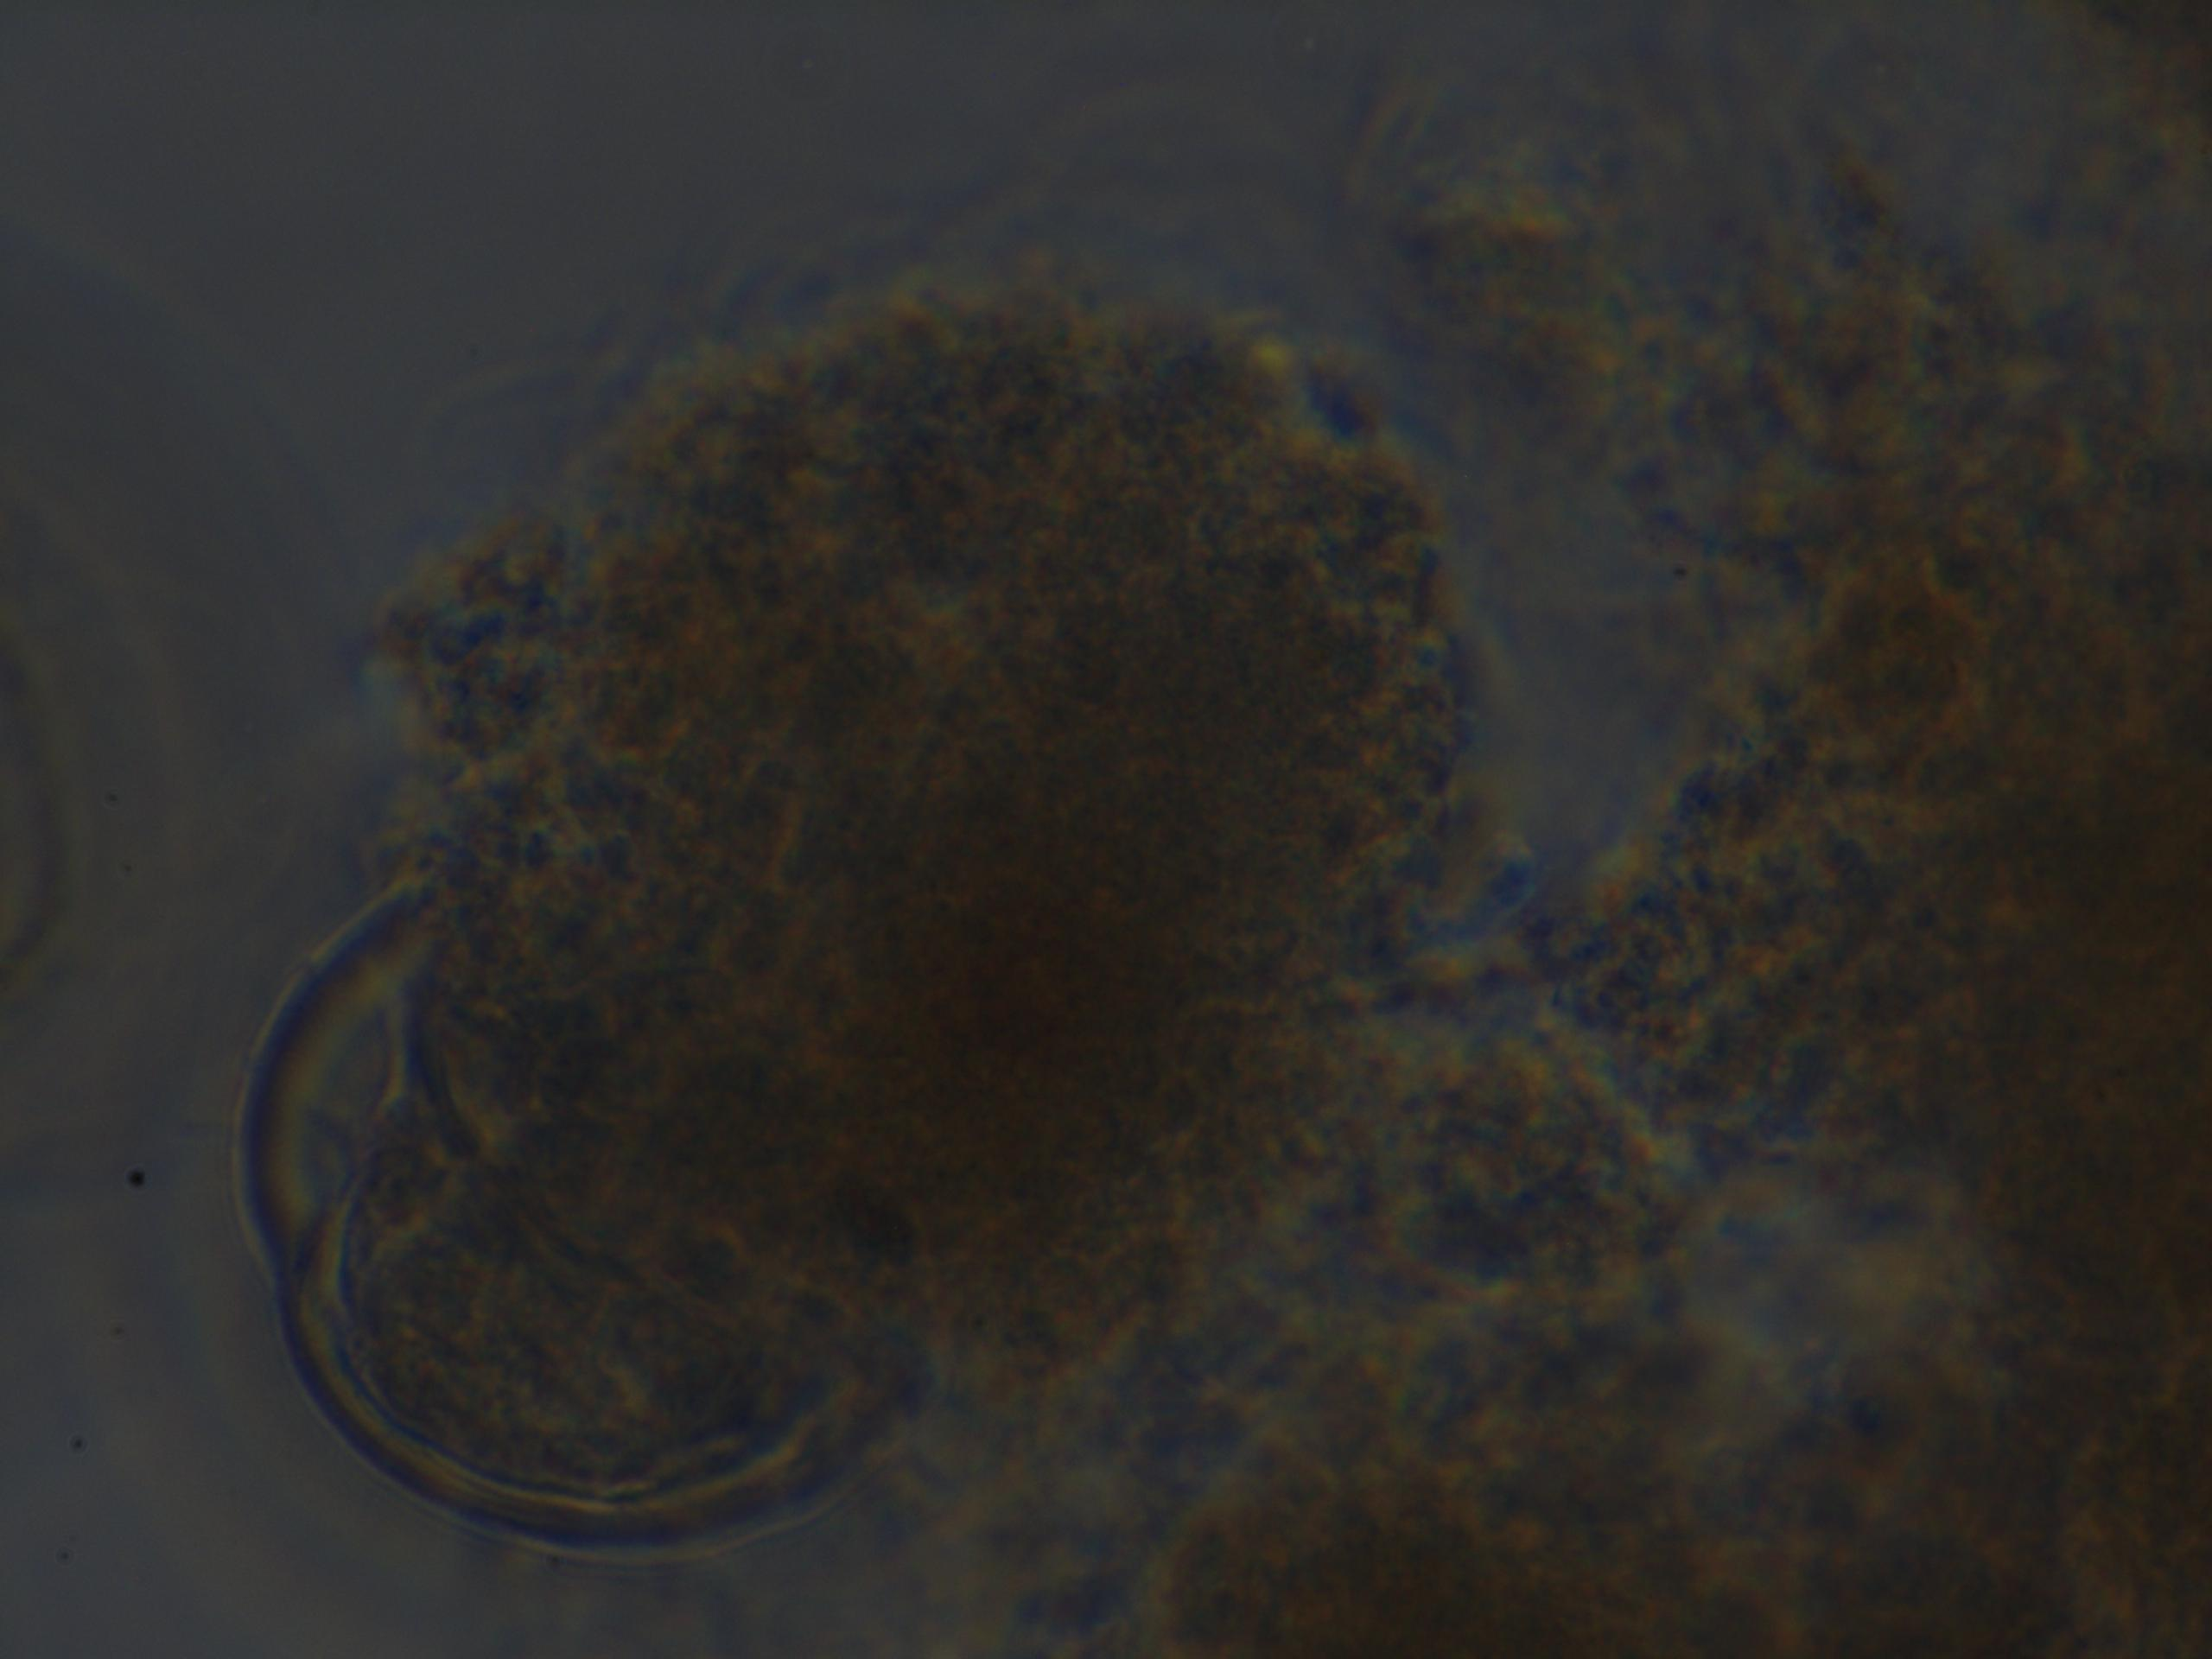protozoa: (226, 824, 916, 1546)
spherical_floc: (383, 258, 1472, 1396)
